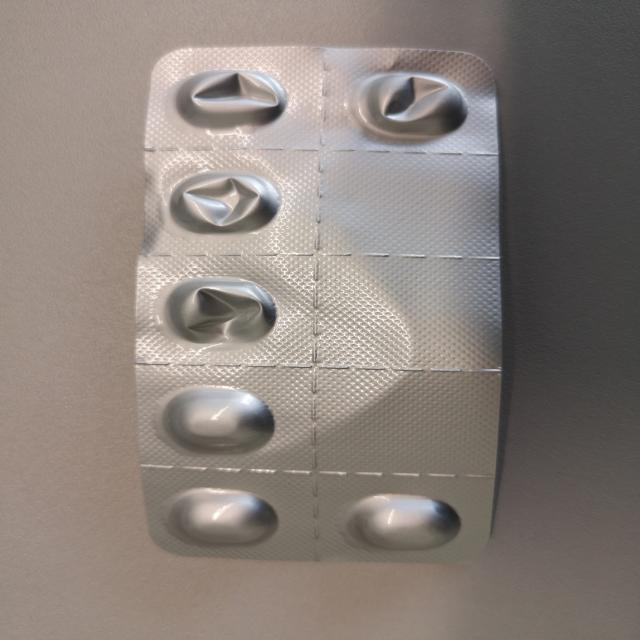Empty: (152, 269, 284, 349), (343, 67, 474, 145), (162, 166, 288, 240), (168, 64, 296, 132)
Pill: (154, 380, 278, 456), (334, 485, 464, 554), (160, 481, 282, 549)
